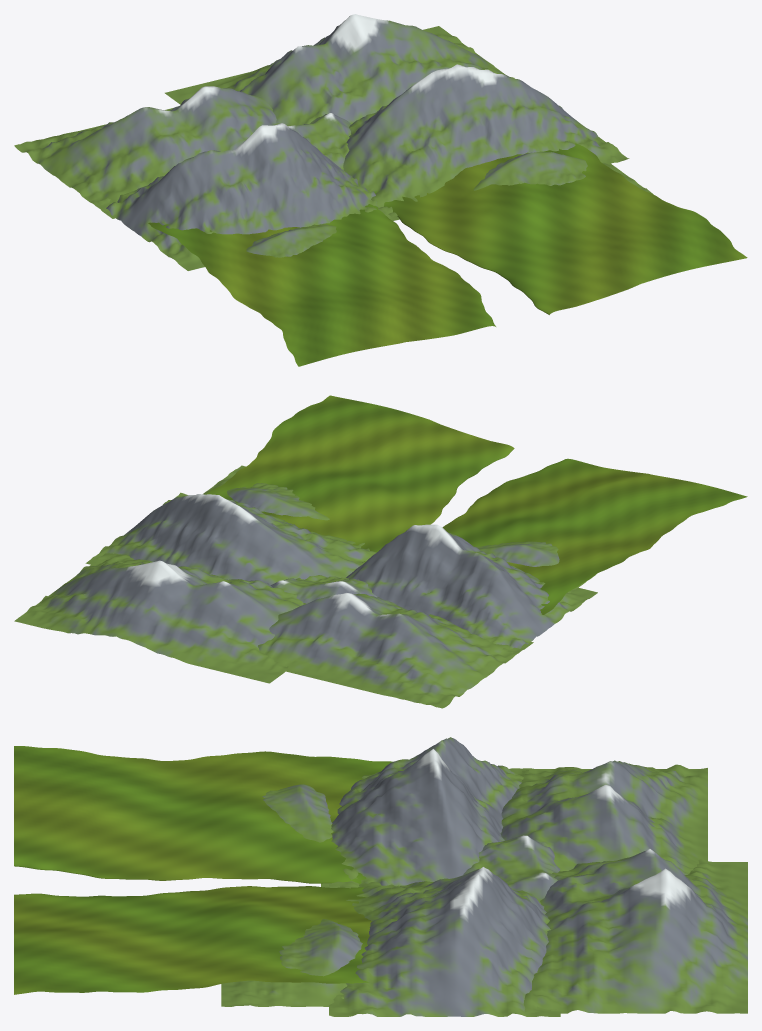
The model's file is alpine-terrain-v1-mobile.glb.
The picture shows the model from 3 angles, top to bottom: view 1: azimuth 30°, elevation 25°; view 2: azimuth 150°, elevation 25°; view 3: azimuth 270°, elevation 25°; orthographic projection. The views are drawn at different scales.
Parts seen in each view (by area): view 1: east-bank, west-bank, east-alpine-massif, west-alpine-massif, distant-east, distant-west, east-meadow-shoulder, middle-saddle, west-meadow-shoulder; view 2: east-bank, distant-east, west-bank, distant-west, west-alpine-massif, east-alpine-massif, east-meadow-shoulder, middle-saddle, west-meadow-shoulder; view 3: west-bank, distant-east, east-bank, east-alpine-massif, west-alpine-massif, distant-west, east-meadow-shoulder, middle-saddle, west-meadow-shoulder.
Part boxes in pixels (x1=…): east-bank: x1=374, y1=143, x2=747, y2=314; west-bank: x1=148, y1=204, x2=495, y2=366; east-alpine-massif: x1=343, y1=64, x2=629, y2=217; west-alpine-massif: x1=97, y1=123, x2=399, y2=270; distant-east: x1=165, y1=14, x2=514, y2=126; distant-west: x1=14, y1=86, x2=279, y2=218; east-meadow-shoulder: x1=473, y1=152, x2=653, y2=194; middle-saddle: x1=288, y1=113, x2=351, y2=171; west-meadow-shoulder: x1=246, y1=224, x2=336, y2=257; east-bank: x1=206, y1=395, x2=514, y2=562; distant-east: x1=14, y1=553, x2=303, y2=683; west-bank: x1=442, y1=458, x2=747, y2=614; distant-west: x1=258, y1=593, x2=533, y2=708; west-alpine-massif: x1=346, y1=524, x2=597, y2=653; east-alpine-massif: x1=85, y1=492, x2=376, y2=585; east-meadow-shoulder: x1=203, y1=465, x2=329, y2=520; middle-saddle: x1=270, y1=575, x2=377, y2=603; west-meadow-shoulder: x1=474, y1=541, x2=596, y2=593; west-bank: x1=14, y1=746, x2=393, y2=884; distant-east: x1=523, y1=849, x2=747, y2=1013; east-bank: x1=14, y1=886, x2=371, y2=994; east-alpine-massif: x1=329, y1=867, x2=560, y2=1016; west-alpine-massif: x1=321, y1=737, x2=528, y2=888; distant-west: x1=500, y1=760, x2=707, y2=874; east-meadow-shoulder: x1=221, y1=919, x2=362, y2=1006; middle-saddle: x1=463, y1=835, x2=560, y2=903; west-meadow-shoulder: x1=262, y1=784, x2=333, y2=842.
Bounding box in the file's own units: 154 × 24.8 × 184.
